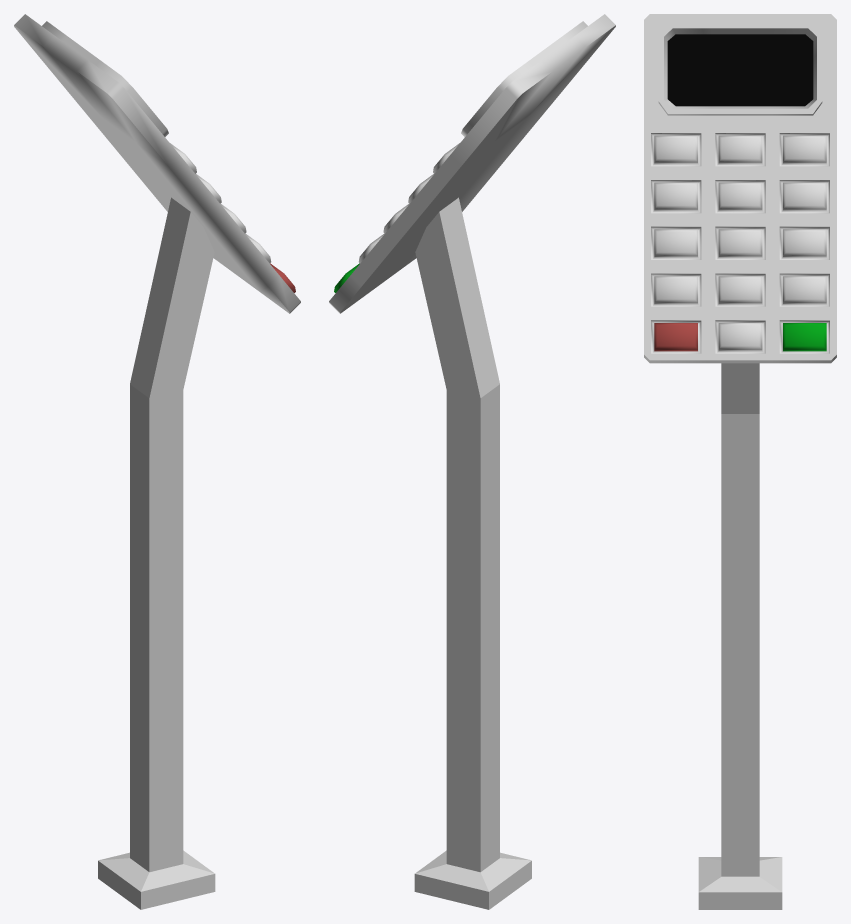
Rendered from telescope_controls.glb.
3 renders of one model, left to right at view 1: azimuth 30°, elevation 25°; view 2: azimuth 150°, elevation 25°; view 3: azimuth 270°, elevation 25°, orthographic. The views are drawn at different scales.
Visible parts, largest first — view 1: Cube.008, Cube.007; view 2: Cube.008, Cube.007; view 3: Cube.007, Cube.008.
Boxes of the visible parts, x1,y1,x2,y2 form: Cube.008: [98, 197, 215, 909]; Cube.007: [14, 14, 300, 313]; Cube.008: [414, 197, 531, 909]; Cube.007: [329, 14, 615, 313]; Cube.007: [644, 14, 836, 363]; Cube.008: [698, 363, 782, 909].
Bounding box in the file's own units: 0.357 × 1.51 × 0.3142.
